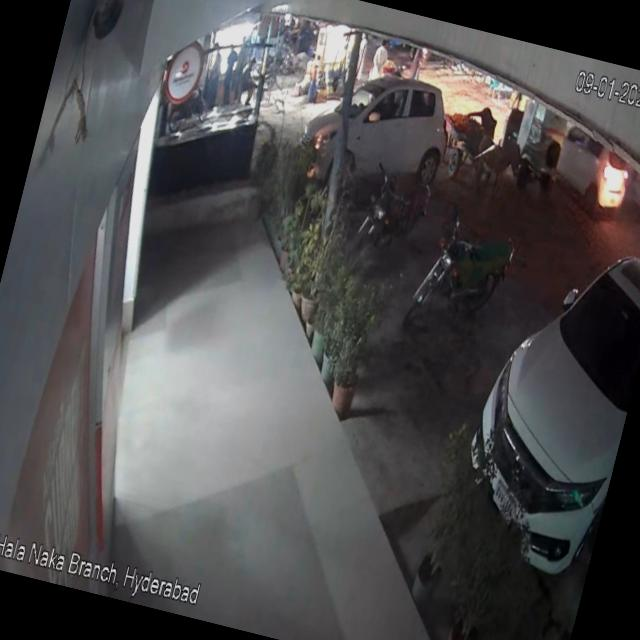Car: (440, 210, 640, 601), (290, 58, 476, 220)
Motorcycle: (386, 194, 524, 354), (338, 148, 436, 277)
